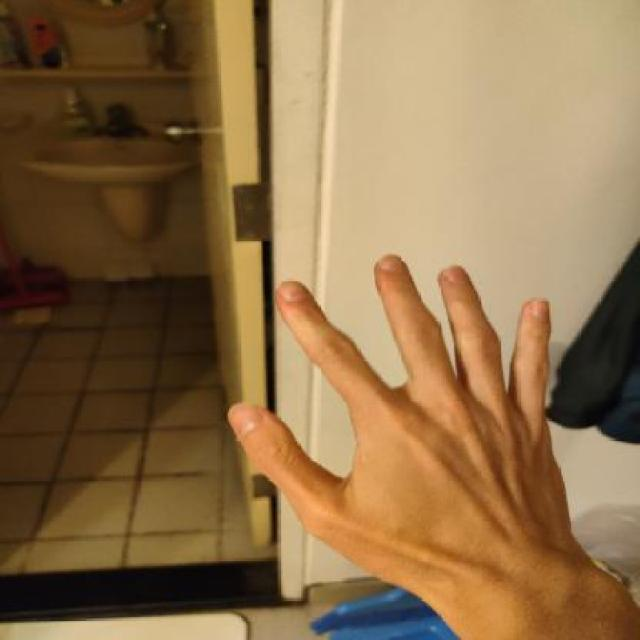bare_hand: (223, 234, 602, 610)
